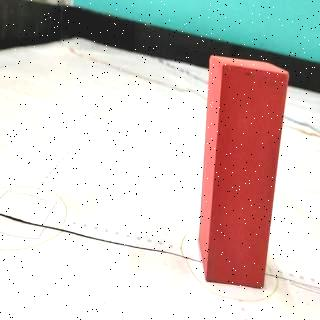redbox: (203, 56, 277, 292)
